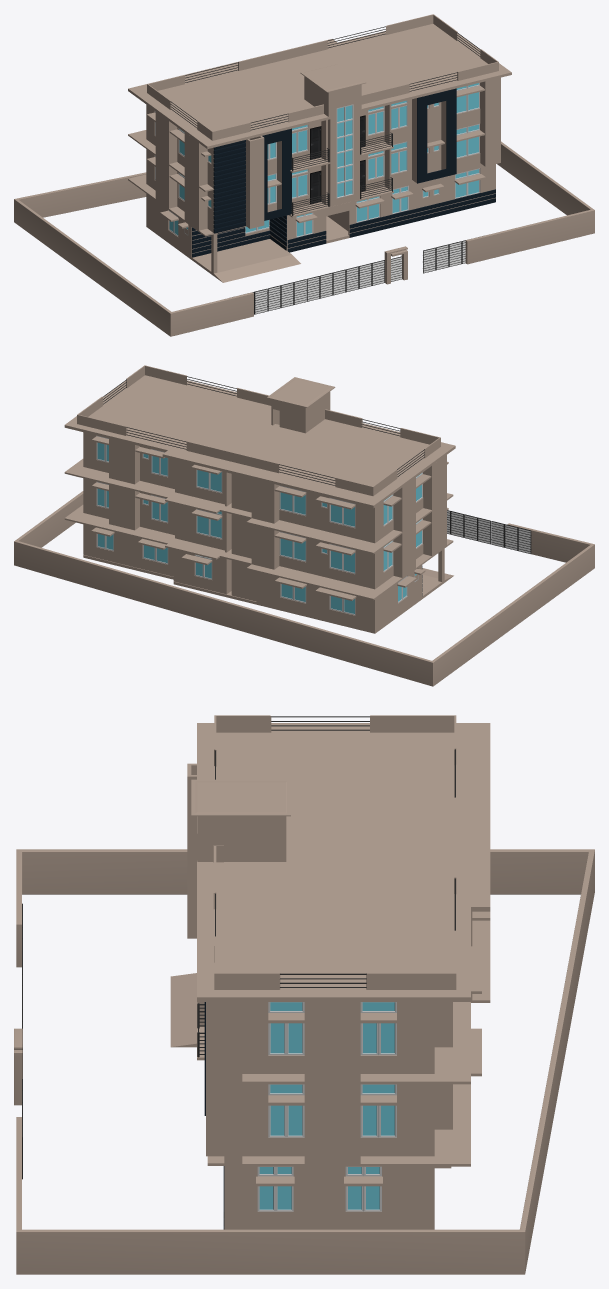
The model's file is building.glb.
The picture shows the model from 3 angles, top to bottom: view 1: azimuth 30°, elevation 25°; view 2: azimuth 150°, elevation 25°; view 3: azimuth 270°, elevation 25°; orthographic projection. The views are drawn at different scales.
Parts seen in each view (by area): view 1: Line064, Line069, Line057, Line066, Line055_Material #2_0, Box040, Box039, Object036_Material #8_0, Line068, Object035_Material #8_0, Object065_Material #8_0, Box034 (+5 smaller); view 2: Line064, Line069, Line057, Line066, Line055_Material #2_0, Box040, Line058, Line067, Box039, Line068, Object012_Material #3_0, Object026_Material #3_0; view 3: Line064, Line069, Line057, Line066, Line055_Material #2_0, Box039, Box040, Line058, Line067, Line068, Box020, Box019 (+4 smaller).
Part boxes in pixels (x1,y1,x2,y2): Line064: (128, 24, 511, 148); Line069: (14, 141, 594, 336); Line057: (146, 120, 500, 232); Line066: (146, 77, 500, 188); Line055_Material #2_0: (146, 164, 495, 273); Box040: (147, 14, 498, 140); Box039: (300, 63, 366, 206); Object036_Material #8_0: (262, 88, 456, 220); Line068: (146, 216, 349, 282); Object035_Material #8_0: (213, 140, 245, 233); Object065_Material #8_0: (287, 189, 495, 252); Box034: (336, 104, 353, 198); Line064: (64, 375, 455, 508); Line069: (14, 491, 594, 686); Line057: (83, 478, 448, 589); Line066: (83, 423, 448, 543); Line055_Material #2_0: (83, 524, 444, 630); Box040: (77, 365, 440, 495); Line058: (64, 505, 453, 600); Line067: (64, 459, 453, 554); Box039: (267, 377, 335, 433); Line068: (83, 555, 453, 633); Object012_Material #3_0: (280, 538, 305, 560); Object026_Material #3_0: (280, 492, 305, 514); Line064: (197, 723, 490, 1001); Line069: (16, 849, 594, 1274); Line057: (187, 859, 472, 1163); Line066: (187, 763, 472, 1081); Line055_Material #2_0: (207, 1156, 451, 1229); Box039: (191, 779, 290, 1026); Box040: (213, 715, 456, 989); Line058: (197, 920, 490, 1166); Line067: (224, 911, 490, 1084); Line068: (170, 973, 196, 1047); Box020: (257, 1166, 293, 1211); Box019: (345, 1166, 381, 1211).
Size of the model in its own units: 31.15 by 11.25 by 19.99.
Materials: 8 (1 with a texture image).
